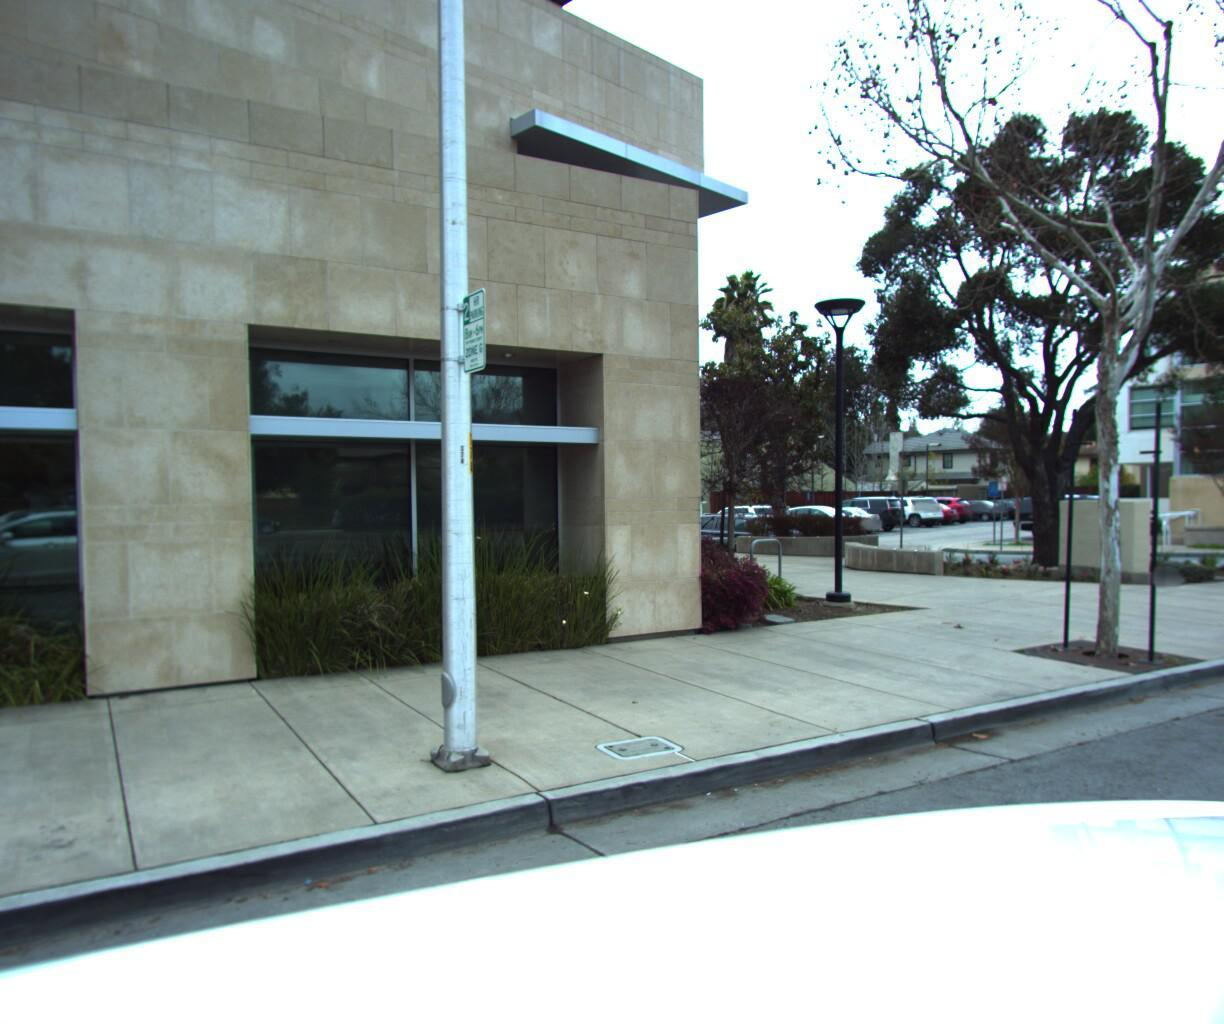car: (669, 507, 803, 562), (776, 499, 872, 534), (799, 499, 888, 530)
